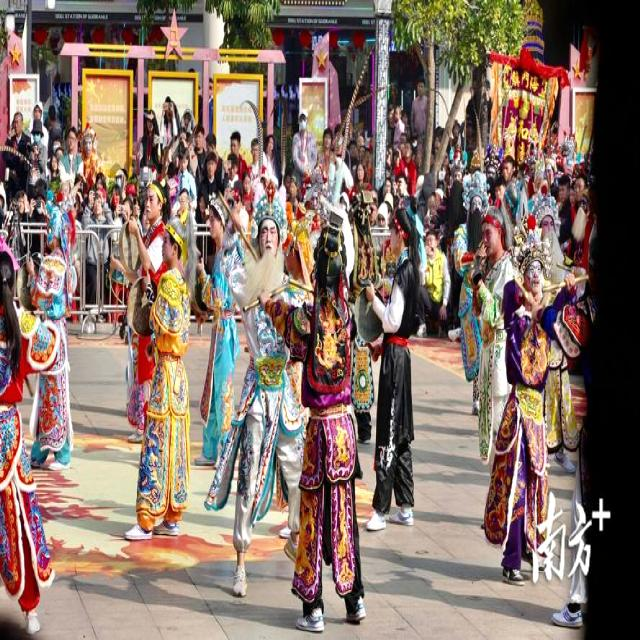Reeves-s Pheasant: (341, 58, 371, 148)
